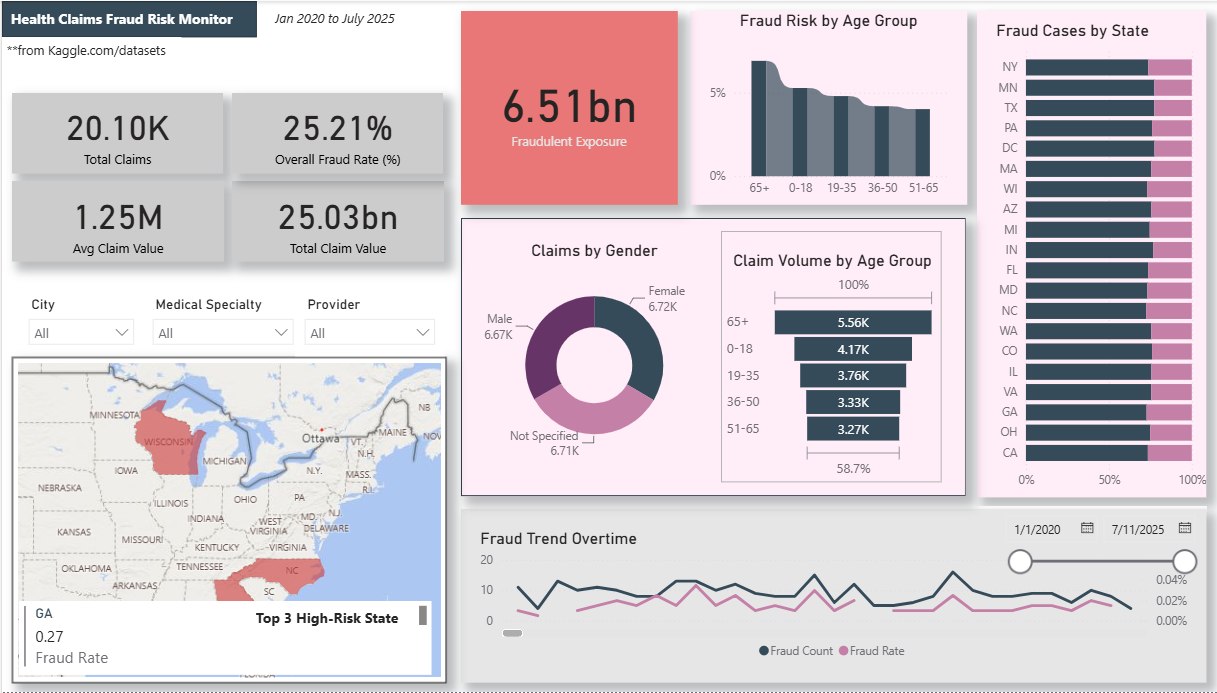

What the dashboard file says about the page in this screenshot:
{"tool":"powerbi","page":{"name":"Dashboard Overview","canvas":[1280,720],"ordinal":0},"visuals":[{"type":"ribbonChart","title":"Fraud Risk by Age Group","fields":{"Category":["SynHealthClaims.AgeGroup"],"Y":["Sum(SynHealthClaims.Fraud_Rate)"]},"box":[716.7,10,288.9,202.2],"z":0},{"type":"shape","box":[478.9,226.7,526.3,289.9],"z":0,"group":"g2"},{"type":"card","fields":{"Values":["CountNonNull(SynHealthClaims.Claim_ID)"]},"box":[10,95.6,220.5,83.6],"z":1000},{"type":"funnel","title":"Claim Volume by Age Group","fields":{"Category":["SynHealthClaims.AgeGroup"],"Y":["CountNonNull(SynHealthClaims.Claim_ID)"]},"box":[749.7,240.6,230.5,262.2],"z":1000,"group":"g2"},{"type":"hundredPercentStackedBarChart","title":"Fraud Cases by State","fields":{"Y":["CountNonNull(SynHealthClaims.Claim_ID)"],"Category":["SynHealthClaims.Patient_State"],"Series":["SynHealthClaims.Is_Fraudulent"]},"box":[1016.7,10,238.9,506.7],"z":2000},{"type":"donutChart","title":"Claims by Gender","fields":{"Category":["SynHealthClaims.Gender Reporting"],"Y":["CountNonNull(SynHealthClaims.Claim_ID)"]},"box":[493.3,229.8,248.7,261.7],"z":2000,"group":"g2"},{"type":"card","fields":{"Values":["Avg(SynHealthClaims.Claim_Amount)"]},"box":[10,187.8,221.1,84.4],"z":3000},{"type":"group","id":"g1","title":"Group 1","box":[478.9,526.7,776.7,184.4],"z":4000},{"type":"shape","box":[0,0,265.6,37.8],"z":5000,"group":"g3"},{"type":"slicer","fields":{"Values":["SynHealthClaims.Provider_Specialty"]},"box":[147.3,303.2,166.8,68.2],"z":5000},{"type":"textbox","box":[4.3,3.2,257,31.3],"z":6000,"group":"g3"},{"type":"group","id":"g2","title":"Group 1","box":[478.9,226.7,526.7,290],"z":6000},{"type":"card","fields":{"Values":["Sum(SynHealthClaims.Claim_Amount)"]},"box":[240,187.8,221.1,84.4],"z":7000},{"type":"group","id":"g3","title":"Group 3","box":[0,0,265.6,37.8],"z":8000},{"type":"lineChart","title":"Fraud Trend Overtime","fields":{"Y":["CountNonNull(SynHealthClaims.Fraud_Label)"],"Category":["SynHealthClaims.Claim_Date"],"Y2":["Sum(SynHealthClaims.Fraud_Rate)"]},"box":[478.9,529.7,776.7,181.5],"z":8000,"group":"g1"},{"type":"slicer","fields":{"Values":["SynHealthClaims.Patient_City"]},"box":[17.3,303.2,129.9,68.2],"z":9000},{"type":"slicer","fields":{"Values":["SynHealthClaims.Claim_Date"]},"box":[1033.4,526.7,221.1,74.4],"z":9000,"group":"g1"},{"type":"card","fields":{"Values":["SynHealthClaims.Fraudulent_Claim_Amount"]},"box":[478.9,10,225.6,202.2],"z":10000},{"type":"filledMap","fields":{"Category":["SynHealthClaims.Patient_State"]},"box":[10,371.1,453.3,340],"z":11000},{"type":"multiRowCard","fields":{"Values":["SynHealthClaims.Patient_State","SynHealthClaims.Fraud_RateM"]},"box":[17.8,625.6,430,76.7],"z":12000},{"type":"card","fields":{"Values":["Sum(SynHealthClaims.Fraud_Rate)"]},"box":[239.7,95.6,220.5,83.6],"z":13000},{"type":"textbox","box":[0,37.8,186.7,30],"z":14000},{"type":"textbox","box":[260,627.2,175.6,34.4],"z":15000},{"type":"textbox","box":[278.9,4.4,168.9,27.8],"z":16000},{"type":"slicer","fields":{"Values":["SynHealthClaims.Provider_Type"]},"box":[305.4,303.2,155.9,67.1],"z":17000}]}

Visuals, with their boxes in screenshot pixels (x1, y1, x2, y2), scaled from the page's 1280x720 canvas onto the 1217x693 screenshot:
"Fraud Risk by Age Group" ribbonChart: x1=681, y1=10, x2=956, y2=204
shape: x1=455, y1=218, x2=956, y2=497
card - CountNonNull(SynHealthClaims.Claim_ID): x1=10, y1=92, x2=219, y2=172
"Claim Volume by Age Group" funnel: x1=713, y1=232, x2=932, y2=484
"Fraud Cases by State" hundredPercentStackedBarChart: x1=967, y1=10, x2=1194, y2=497
"Claims by Gender" donutChart: x1=469, y1=221, x2=705, y2=473
card - Avg(SynHealthClaims.Claim_Amount): x1=10, y1=181, x2=220, y2=262
"Group 1" group: x1=455, y1=507, x2=1194, y2=684
shape: x1=0, y1=0, x2=253, y2=36
slicer - SynHealthClaims.Provider_Specialty: x1=140, y1=292, x2=299, y2=357
textbox: x1=4, y1=3, x2=248, y2=33
"Group 1" group: x1=455, y1=218, x2=956, y2=497
card - Sum(SynHealthClaims.Claim_Amount): x1=228, y1=181, x2=438, y2=262
"Group 3" group: x1=0, y1=0, x2=253, y2=36
"Fraud Trend Overtime" lineChart: x1=455, y1=510, x2=1194, y2=685
slicer - SynHealthClaims.Patient_City: x1=16, y1=292, x2=140, y2=357
slicer - SynHealthClaims.Claim_Date: x1=983, y1=507, x2=1193, y2=579
card - SynHealthClaims.Fraudulent_Claim_Amount: x1=455, y1=10, x2=670, y2=204
filledMap - SynHealthClaims.Patient_State: x1=10, y1=357, x2=440, y2=684
multiRowCard - SynHealthClaims.Patient_State x SynHealthClaims.Fraud_RateM: x1=17, y1=602, x2=426, y2=676
card - Sum(SynHealthClaims.Fraud_Rate): x1=228, y1=92, x2=438, y2=172
textbox: x1=0, y1=36, x2=178, y2=65
textbox: x1=247, y1=604, x2=414, y2=637
textbox: x1=265, y1=4, x2=426, y2=31
slicer - SynHealthClaims.Provider_Type: x1=290, y1=292, x2=439, y2=356
